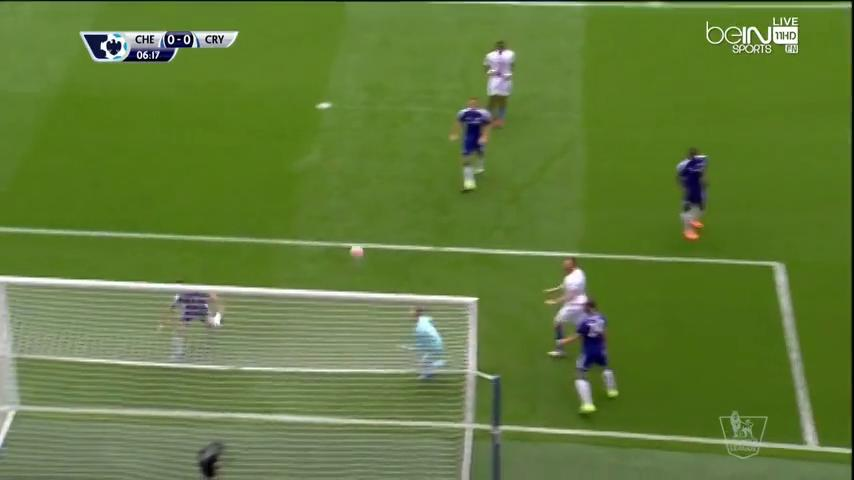football: (349, 244, 364, 260)
